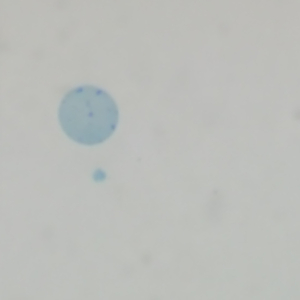punctate reticulocyte: (57, 83, 122, 149)
